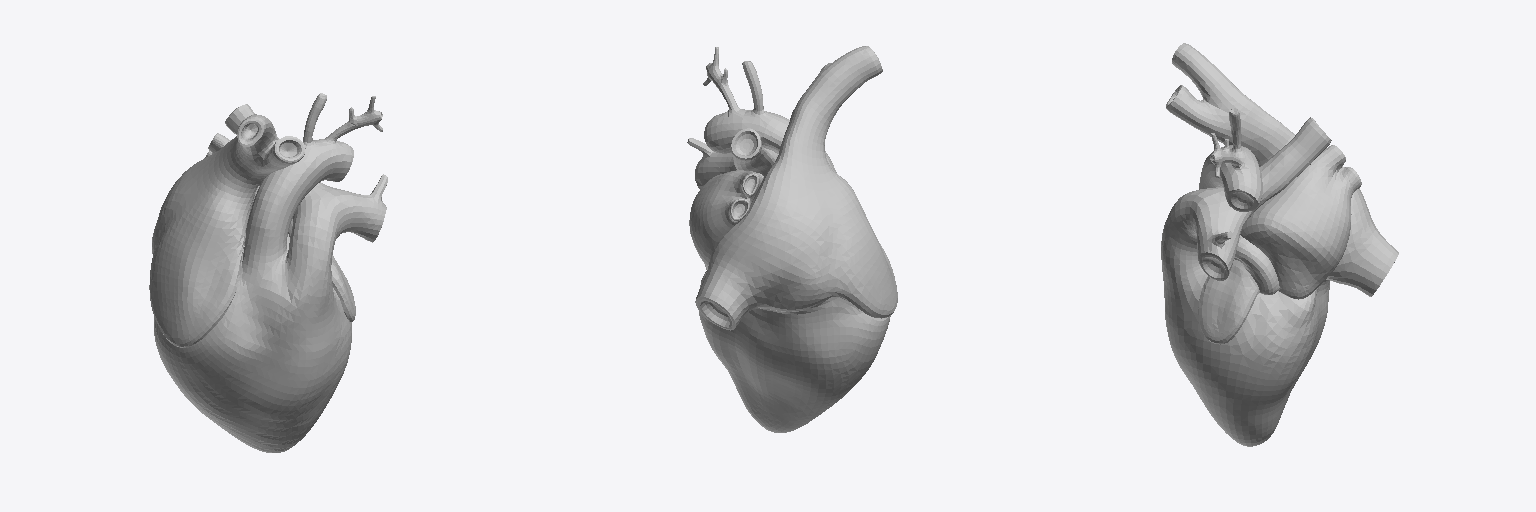
The model's file is corazon.obj.
The picture shows the model from 3 angles: view 1: azimuth 30°, elevation 25°; view 2: azimuth 150°, elevation 25°; view 3: azimuth 270°, elevation 25°; orthographic projection.
Visible parts, largest first — view 1: human_heart.1; view 2: human_heart.1; view 3: human_heart.1.
Part boxes in pixels (bbox=[...]): human_heart.1: bbox=[149, 93, 387, 452]; human_heart.1: bbox=[687, 46, 897, 432]; human_heart.1: bbox=[1161, 43, 1398, 446].
Size of the model in its own units: 0.1475 by 0.247 by 0.1433.